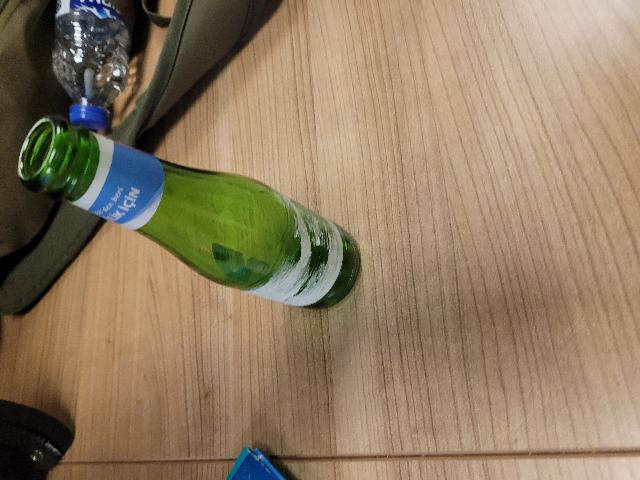Cam: (13, 105, 360, 349)
